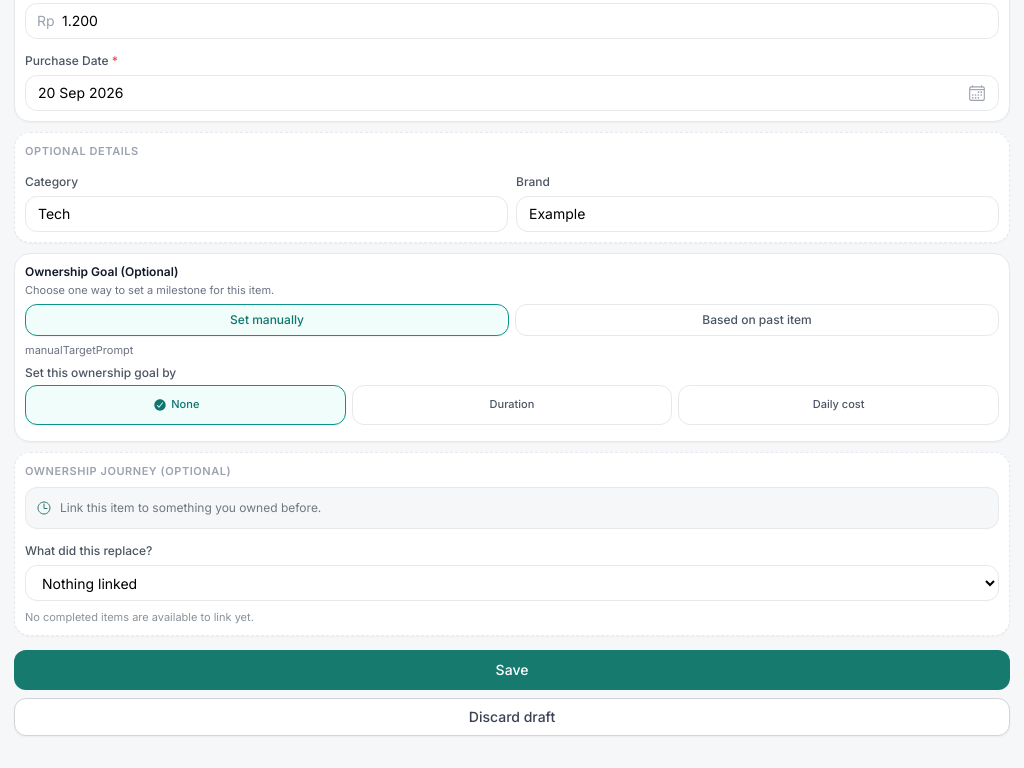
Scenario: AddItem component date localization › preserves the draft when item creation fails
(page scrolled)
Click the button "Save" at (512, 670), box x1=14 y1=650 x2=1010 y2=690
(page scrolled)
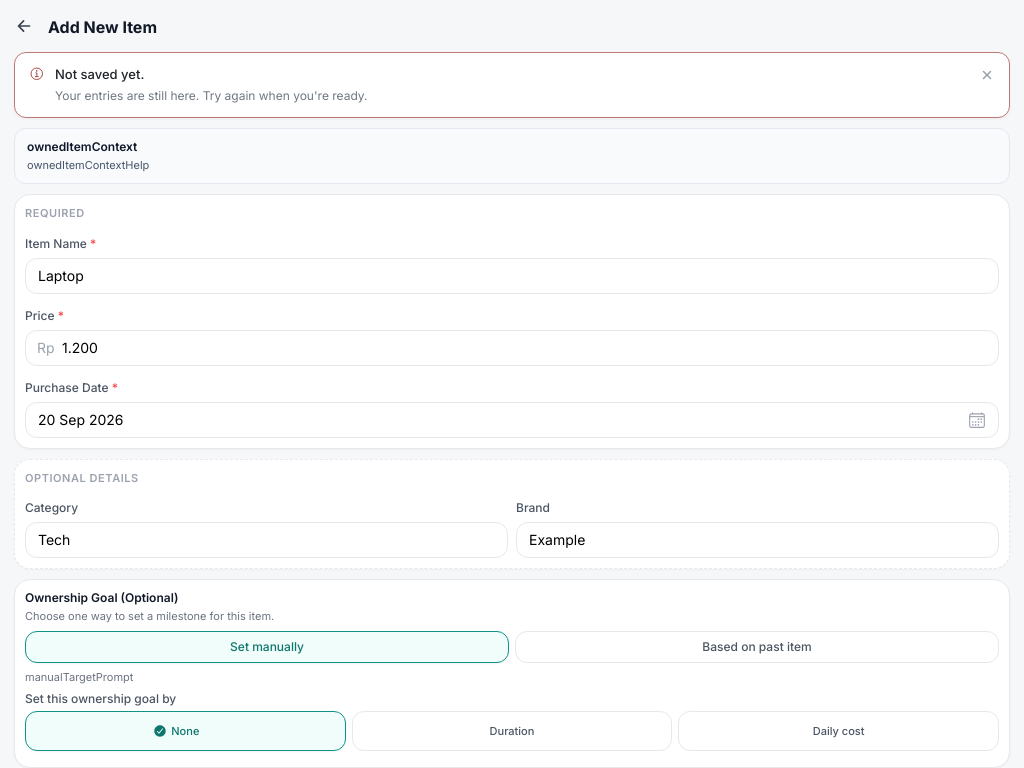
Now the message shows "Your entries are still here. Try again when you're ready.", box x1=55 y1=88 x2=368 y2=102
